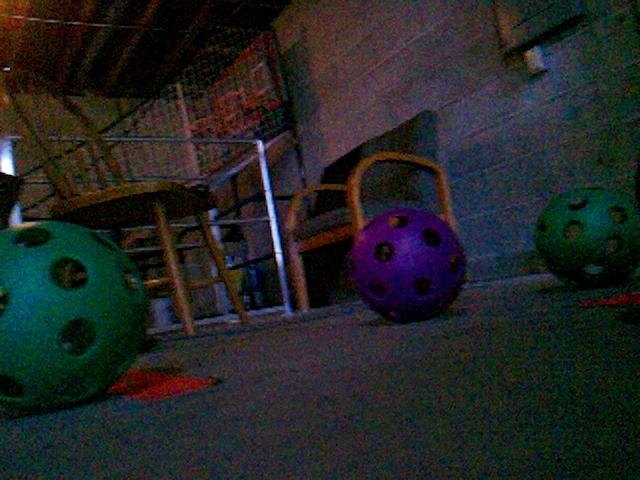Green: (0, 219, 150, 410), (532, 186, 638, 287)
Purple: (346, 206, 469, 322)
